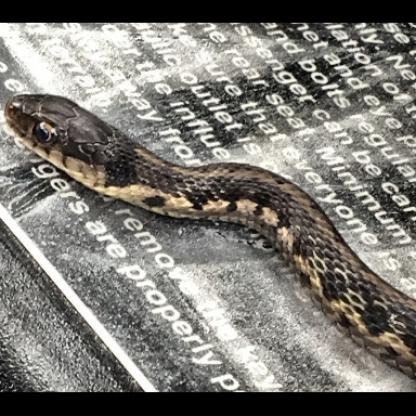Snake: (2, 91, 416, 381)
